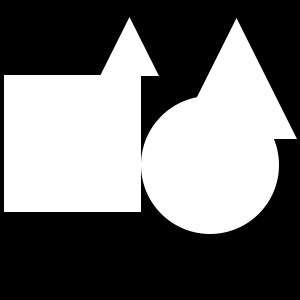circle: (4, 75, 141, 212), (194, 173, 221, 200)
rectangle: (141, 96, 279, 234)
triangle: (176, 18, 297, 139), (100, 17, 159, 76)
